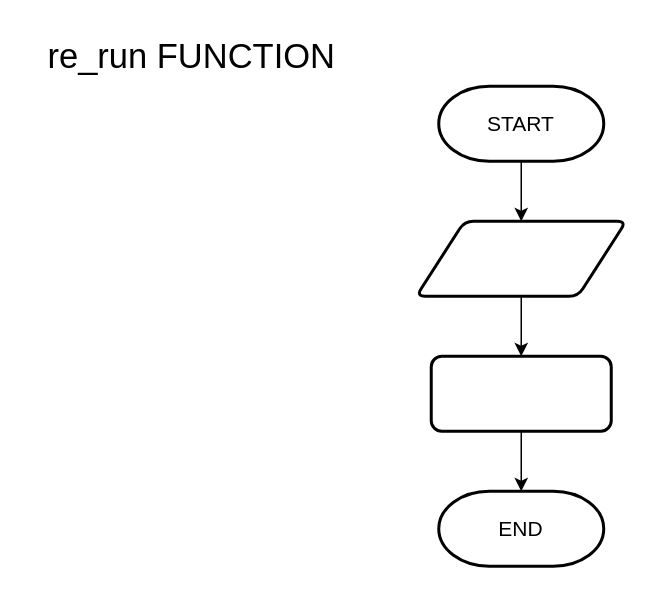
This 653x593 diagram has some shape labels left out. Here are the shapes that lost their labels. From the top down, the centre of each, then its label:
At pixel 520 258: "input char_code".
At pixel 520 393: "return char_code == 'Y'".
